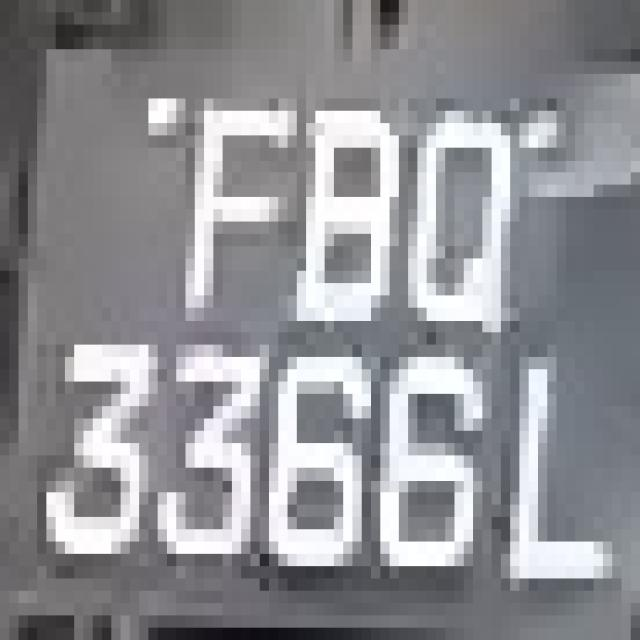3: (28, 283, 158, 603), (148, 320, 269, 566)
6: (362, 295, 501, 591), (260, 307, 371, 578)
B: (288, 73, 418, 344)
F: (158, 49, 296, 320)
L: (492, 344, 612, 616)
Q: (380, 86, 538, 332)
